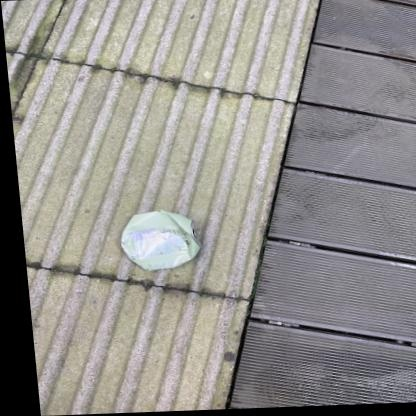trash: (121, 210, 199, 270)
